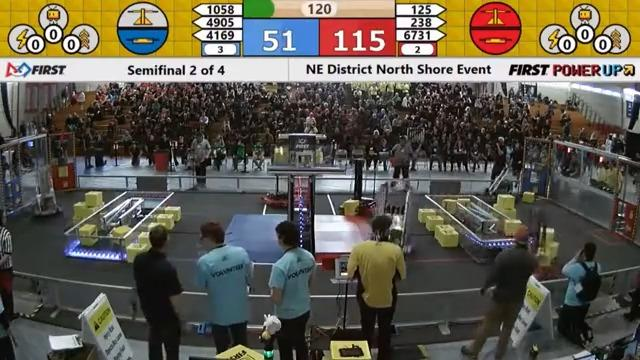robot: (372, 179, 417, 260), (525, 206, 561, 286), (261, 141, 302, 209), (337, 154, 377, 216), (30, 156, 64, 217), (477, 162, 520, 205)
